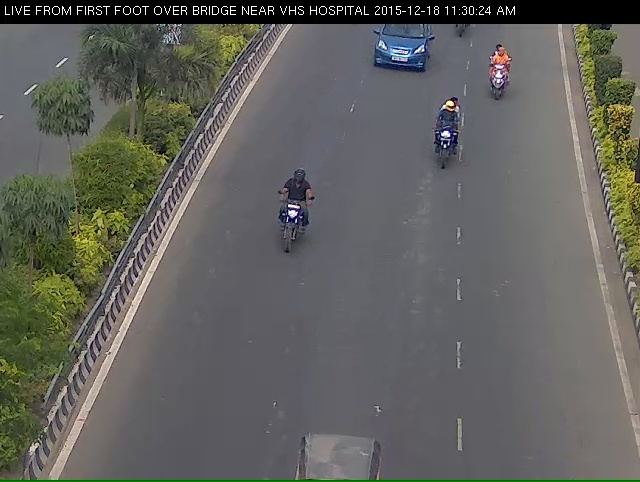Car: (366, 24, 434, 89)
Person: (261, 184, 310, 279), (429, 104, 462, 189), (477, 43, 516, 109)
